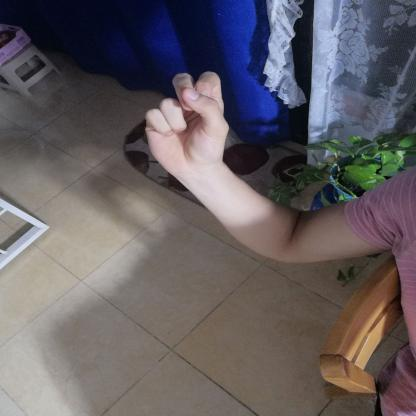QAAF: (129, 64, 248, 184)
